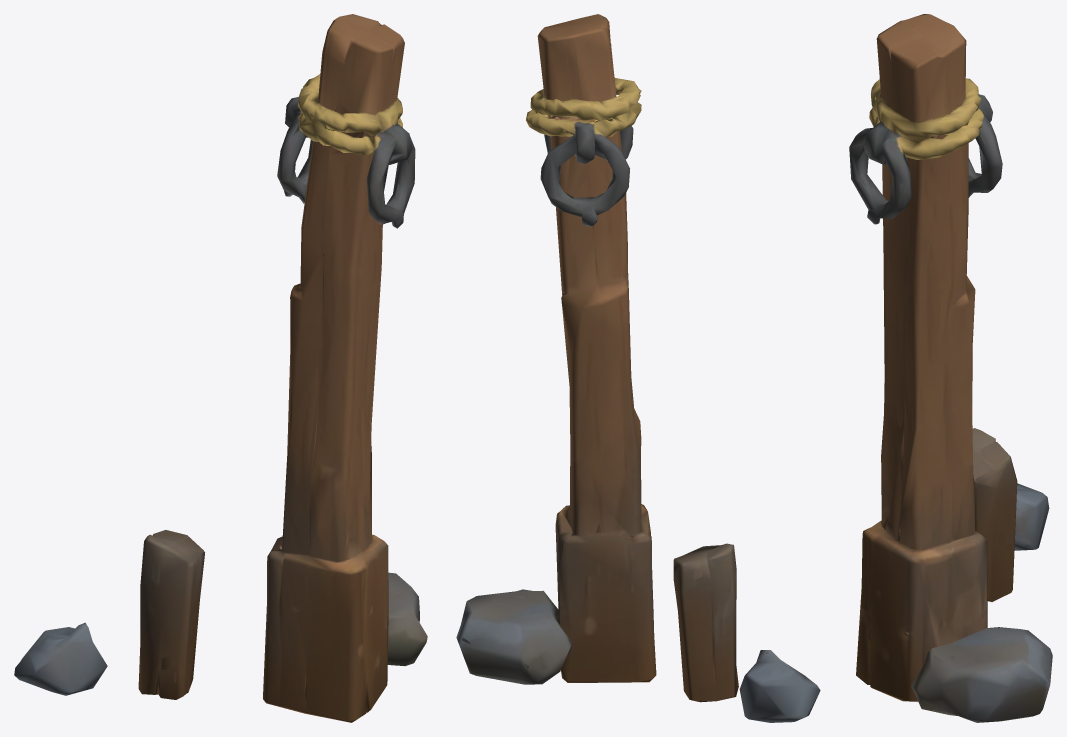
File: lookout-post.glb
The picture shows the model from 3 angles, left to right: view 1: azimuth 30°, elevation 25°; view 2: azimuth 150°, elevation 25°; view 3: azimuth 270°, elevation 25°; orthographic projection. The views are drawn at different scales.
Bounding box in the file's own units: 1.13 × 1.9 × 0.5224.
1 material, 1 textured.
